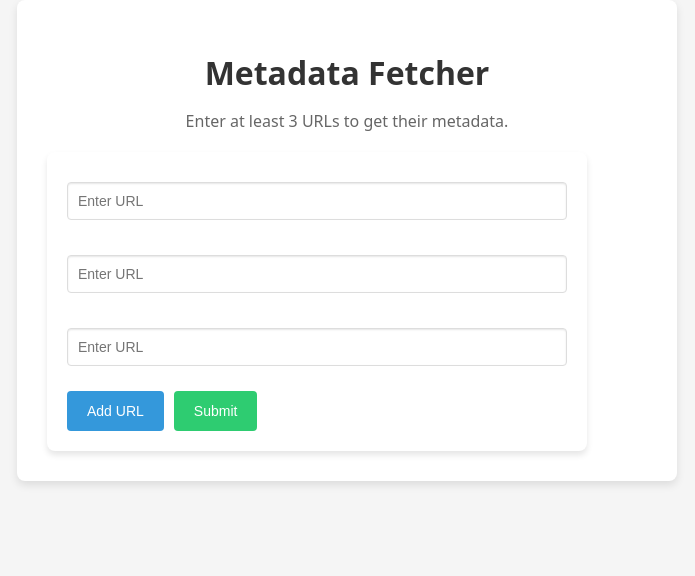
it: MetadataForm Component › removes a URL input field when "×" button is clicked
This screenshot has width=695, height=576.
# Add an extra URL field first
Click the button "Add URL": (115, 411) x1=67 y1=391 x2=164 y2=431
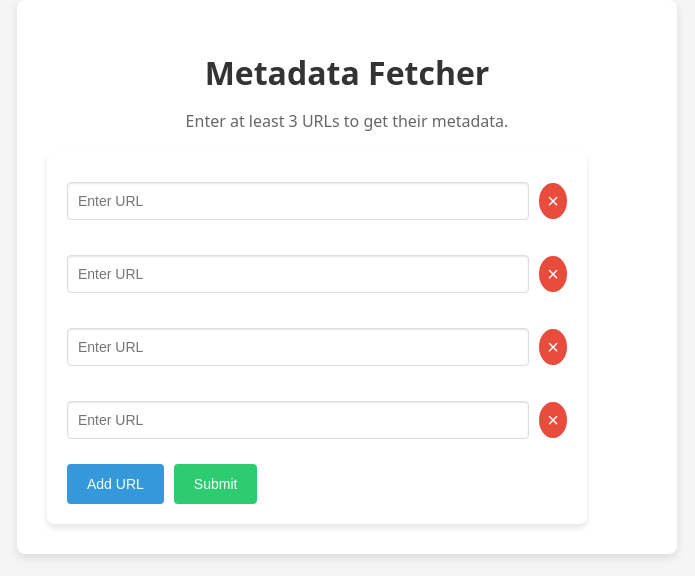
# Now remove one
Click the 1st button "×": (553, 201) x1=539 y1=183 x2=567 y2=219
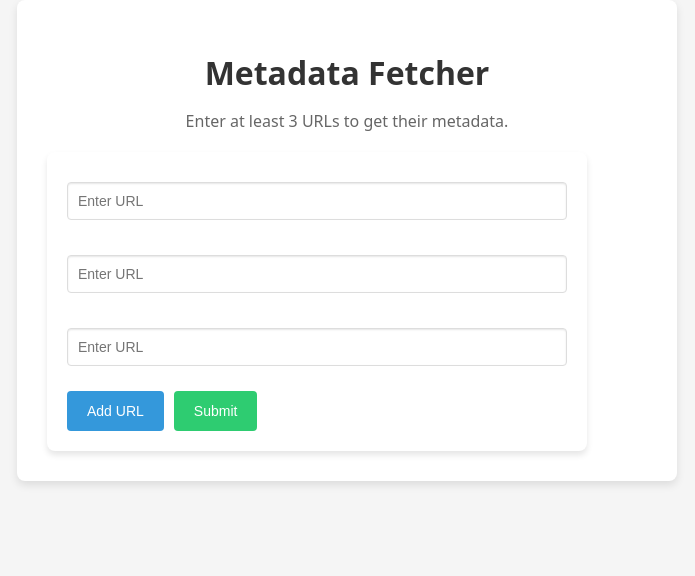
Expected: the number of fields with placeholder "Enter URL" is 3, x1=67 y1=182 x2=567 y2=220; x1=67 y1=255 x2=567 y2=293; x1=67 y1=328 x2=567 y2=366
